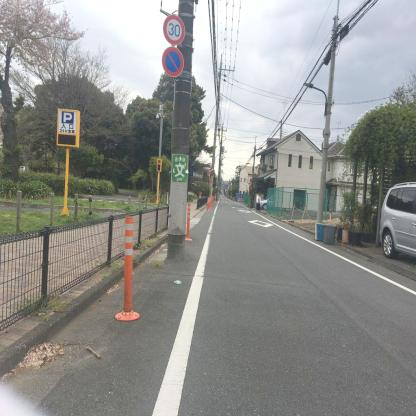Someiyoshino: (0, 1, 99, 85)
